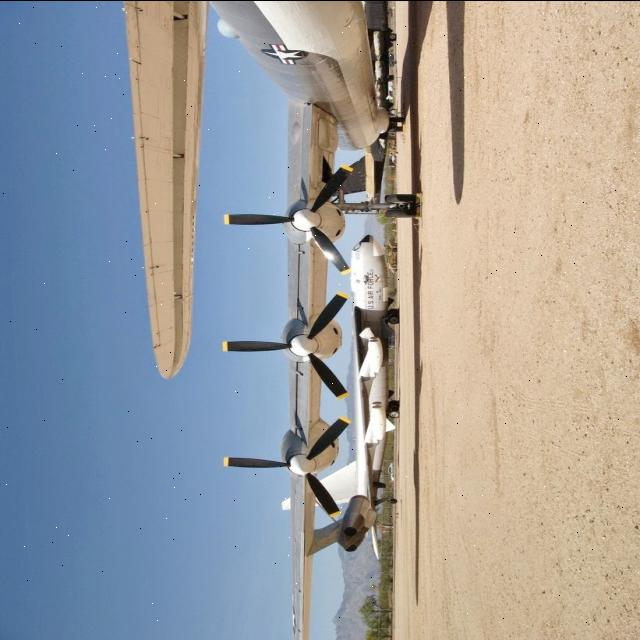B52: (121, 0, 466, 640)
